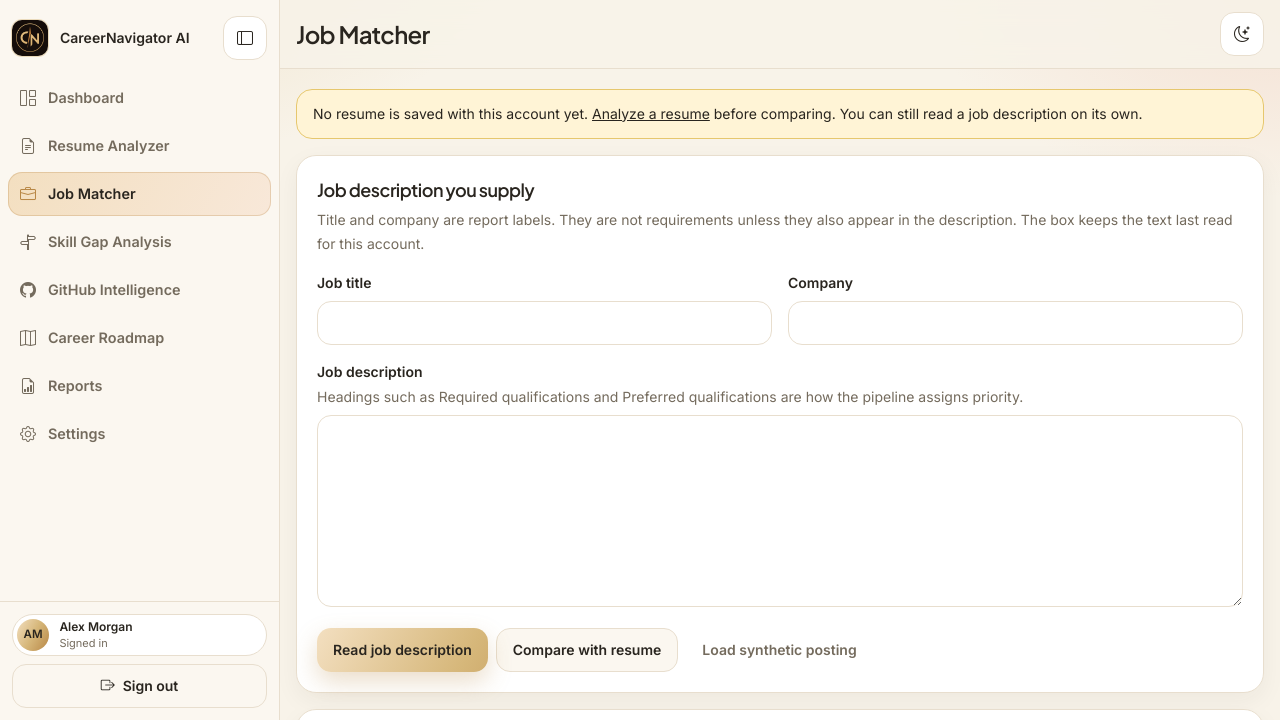
Test: job matching › refuses an empty job description
The image size is (1280, 720).
Clear the text box labelled "Job description". click: [780, 511]
box: [317, 415, 1243, 607]
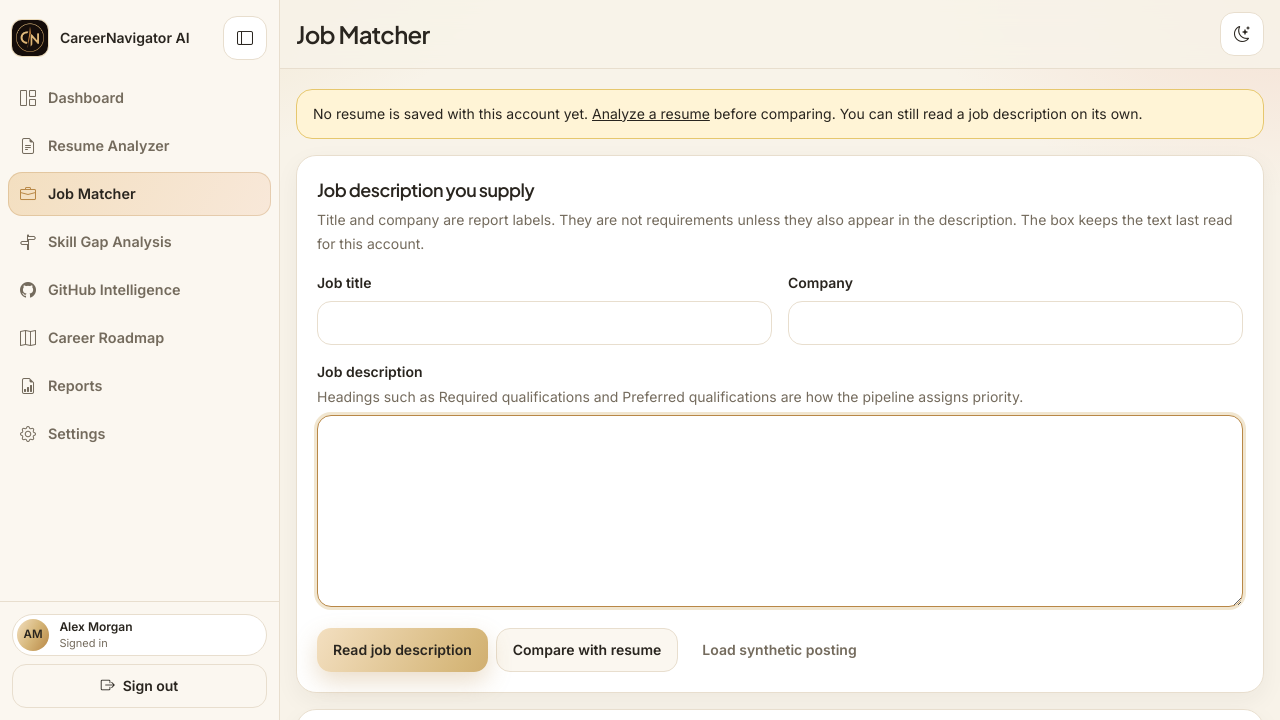
Click the button "Read job description". click: [402, 650]
box: [317, 628, 488, 672]
(page scrolled)
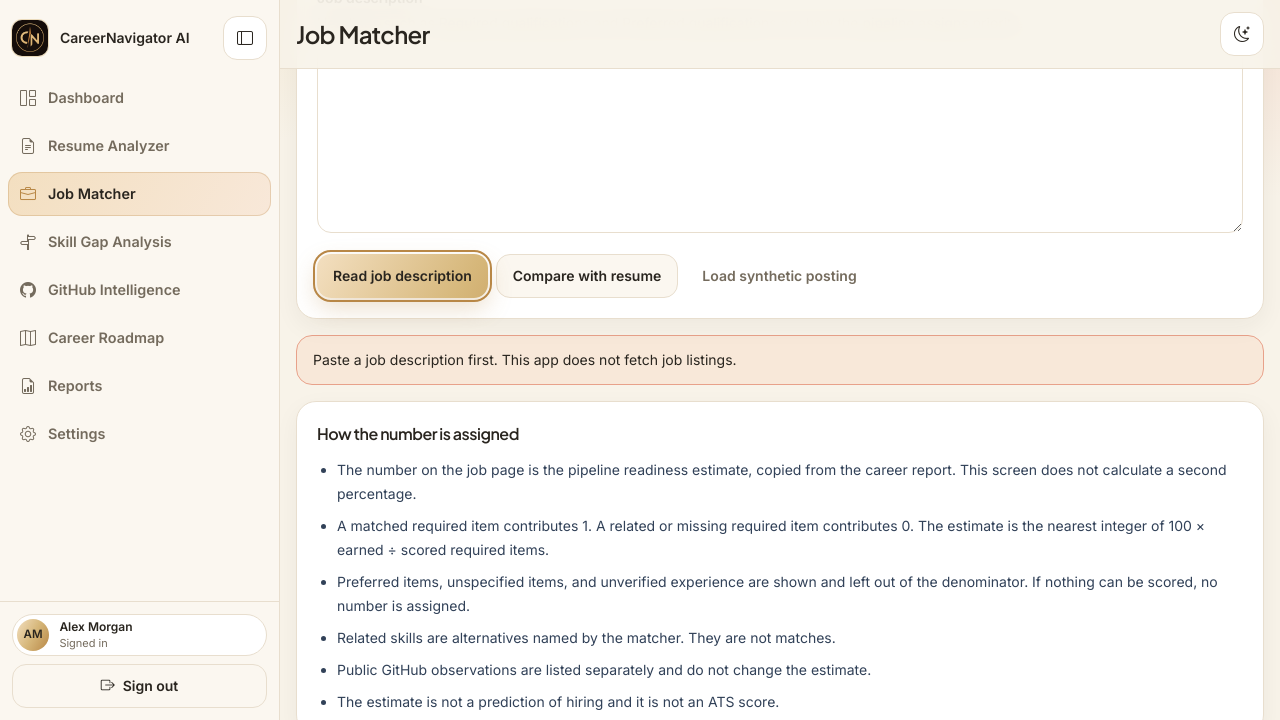
Check: the text "Paste a job description first. This app does not fetch job listings." is shown, box [296, 335, 1264, 385]
